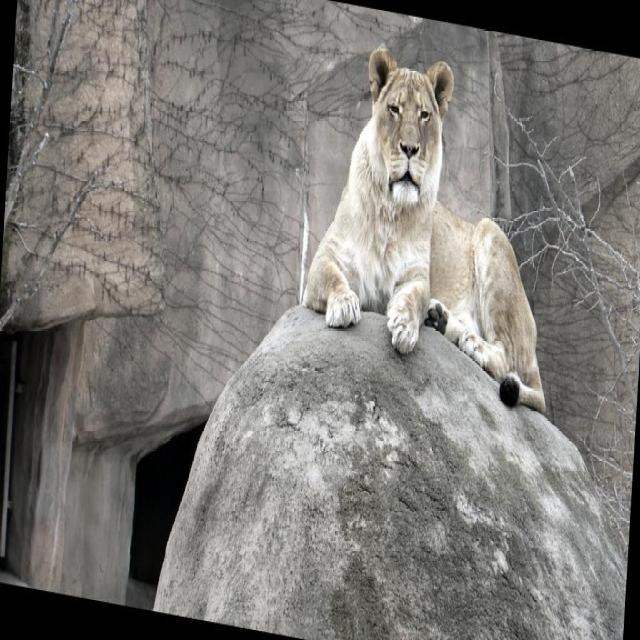Lion: (298, 32, 566, 414)
